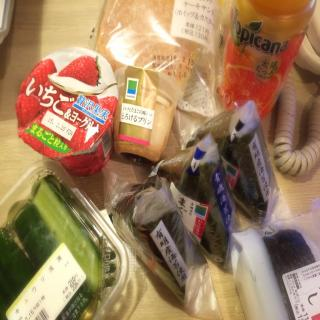Strawberry: (14, 56, 118, 173), (53, 51, 99, 81)
